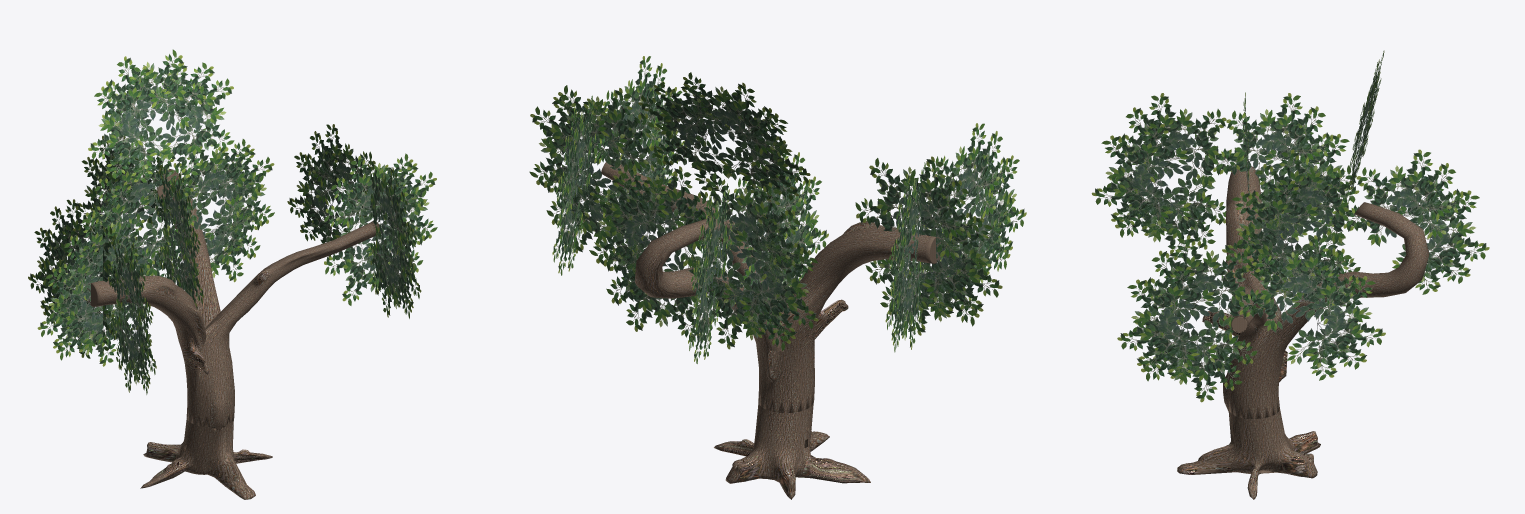
Rendered from BanyanTree4.FBX.
The picture shows the model from 3 angles, left to right: view 1: azimuth 30°, elevation 25°; view 2: azimuth 150°, elevation 25°; view 3: azimuth 270°, elevation 25°; orthographic projection. The views are drawn at different scales.
Visible parts, largest first — view 1: Cylinder001; view 2: Cylinder001; view 3: Cylinder001.
Part boxes in pixels (x1,y1,x2,y2): Cylinder001: [28, 49, 437, 499]; Cylinder001: [529, 56, 1026, 499]; Cylinder001: [1091, 50, 1489, 499].
Size of the model in its own units: 441 by 380 by 349.
Materials: 2 (2 with a texture image).
